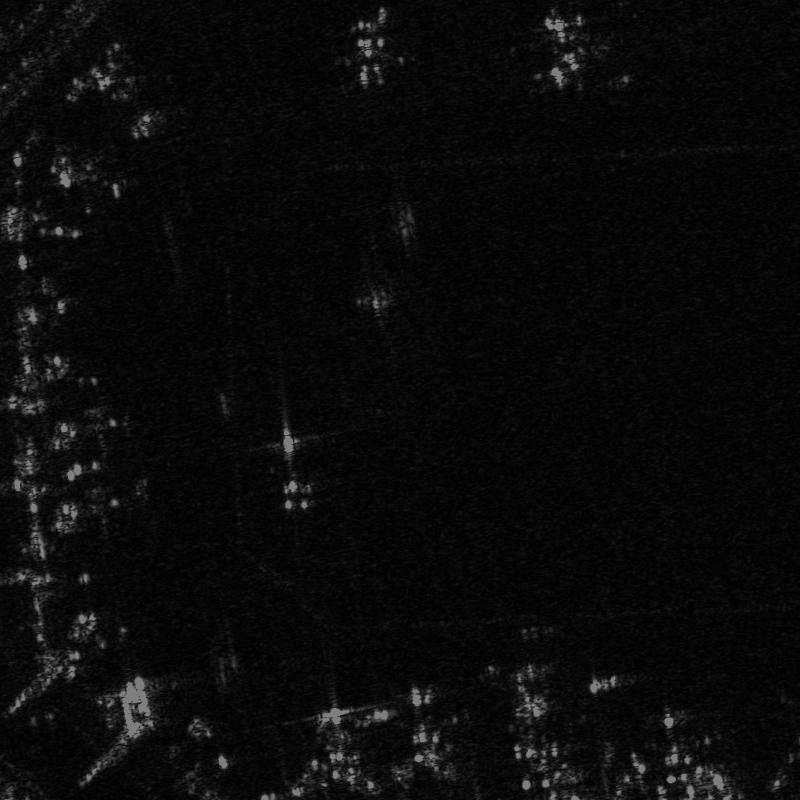A220: (93, 63, 184, 145), (43, 144, 140, 220), (54, 385, 144, 465), (60, 473, 162, 543), (304, 696, 376, 795)
A320/321: (504, 660, 580, 775), (645, 704, 708, 790)
Boeing737: (329, 8, 420, 92), (266, 425, 334, 517)
other: (520, 7, 615, 97), (395, 682, 458, 783)
